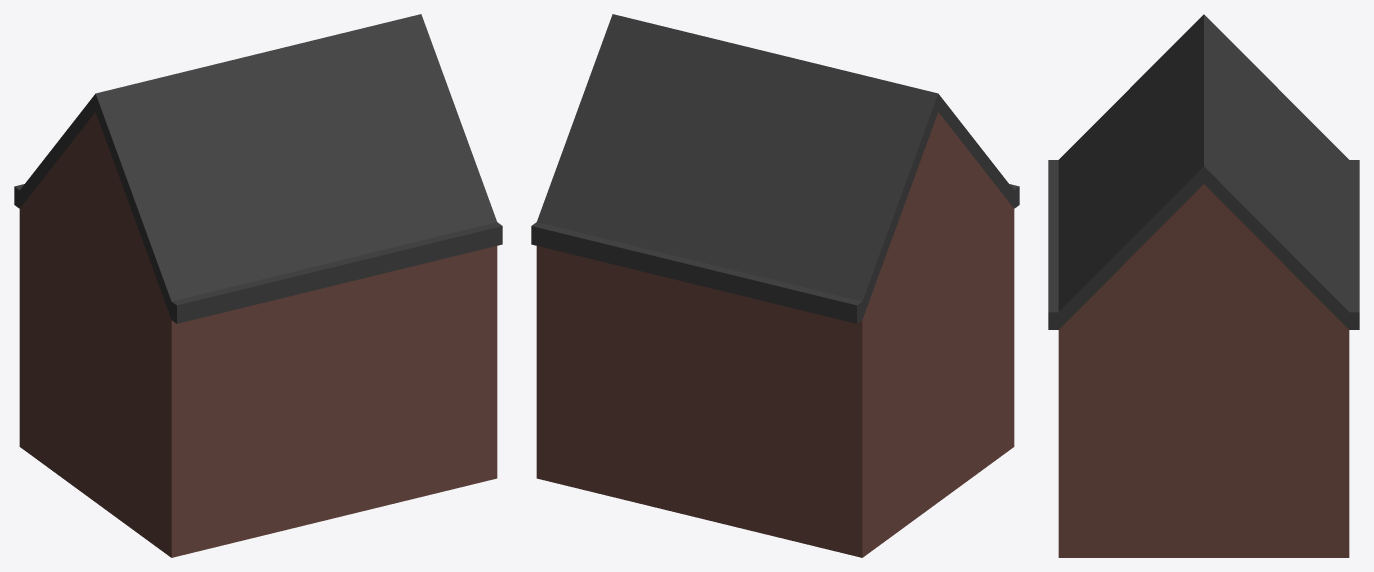
File: hus_small.glb
The picture shows the model from 3 angles, left to right: view 1: azimuth 30°, elevation 25°; view 2: azimuth 150°, elevation 25°; view 3: azimuth 270°, elevation 25°; orthographic projection. The views are drawn at different scales.
Visible parts, largest first — view 1: Hus_small_lofi; view 2: Hus_small_lofi; view 3: Hus_small_lofi.
Part boxes in pixels (x1,y1,x2,y2): Hus_small_lofi: [14, 14, 502, 557]; Hus_small_lofi: [531, 14, 1019, 557]; Hus_small_lofi: [1048, 14, 1359, 557].
Size of the model in its own units: 3.77 by 4.53 by 3.26.
